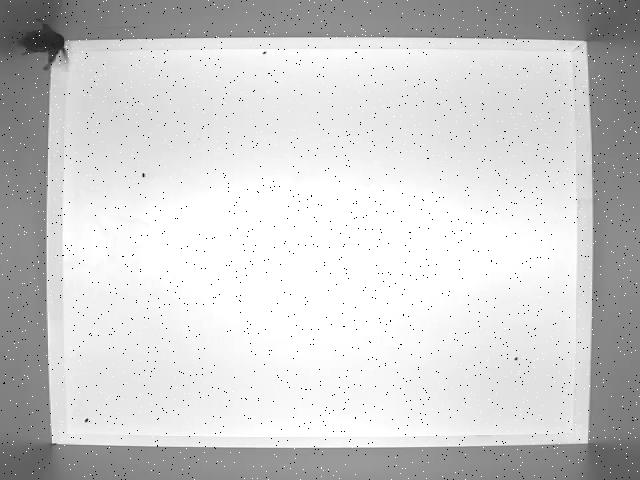Tikus: (19, 16, 71, 70)
